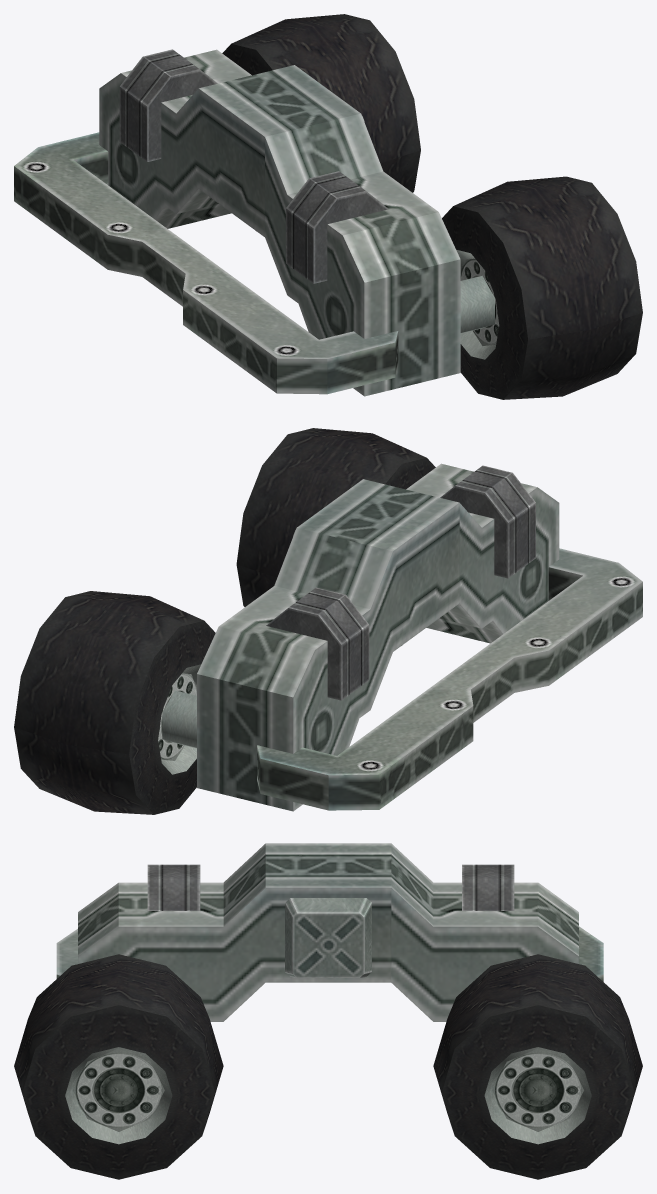
File: Wheel_half_short_R.FBX
The picture shows the model from 3 angles, top to bottom: view 1: azimuth 30°, elevation 25°; view 2: azimuth 150°, elevation 25°; view 3: azimuth 270°, elevation 25°; orthographic projection. The views are drawn at different scales.
Parts seen in each view (by area): view 1: Wheel_half_short_R; view 2: Wheel_half_short_R; view 3: Wheel_half_short_R.
Part boxes in pixels (x1,y1,x2,y2): Wheel_half_short_R: (14,14,642,399); Wheel_half_short_R: (14,428,642,814); Wheel_half_short_R: (14,843,642,1179).
Bounding box in the file's own units: 178 × 121 × 300.
